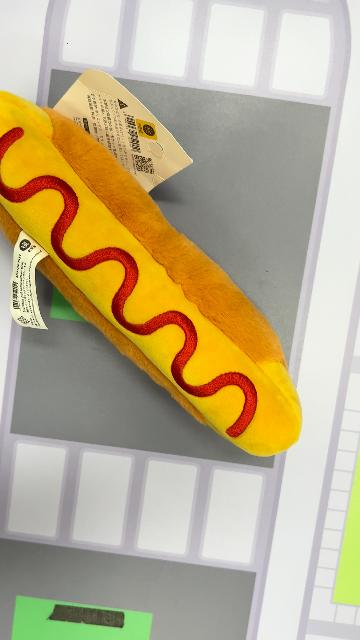hotdog: (0, 90, 304, 458)
